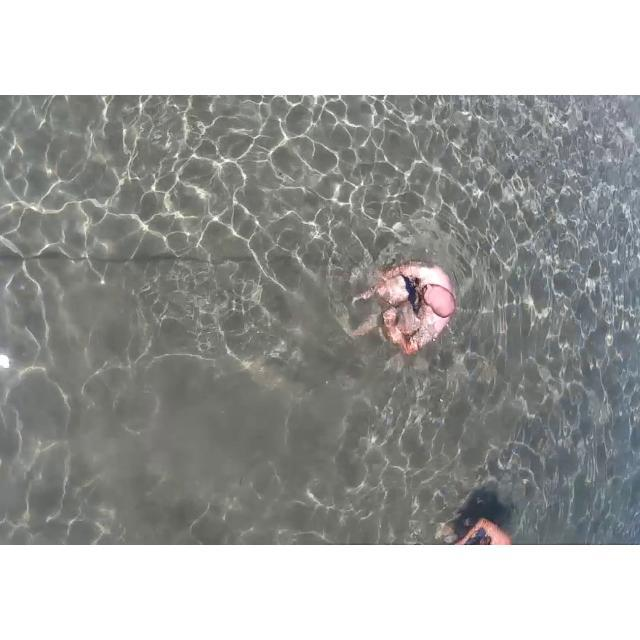human: (351, 230, 493, 375)
